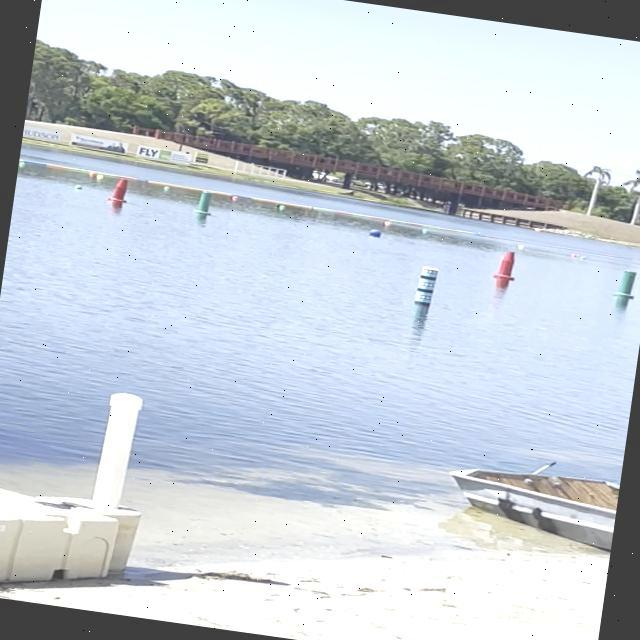buoy: (366, 224, 386, 240)
